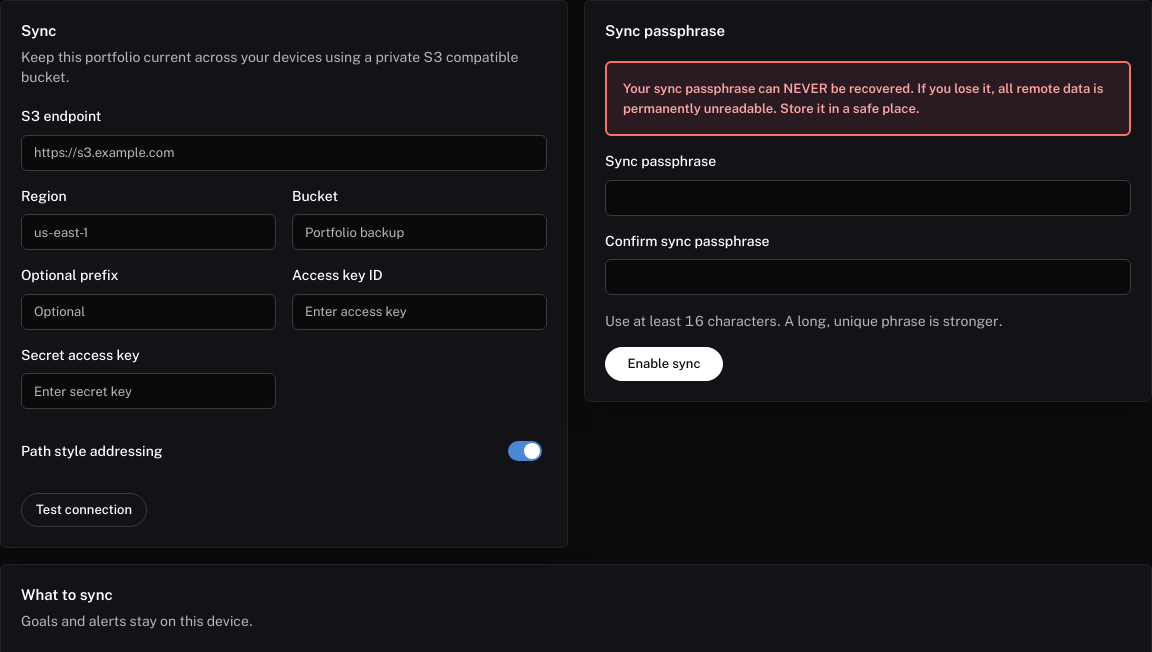
Scenario: Sync settings page › marks a path style toggle as an unsaved change
Click the switch named "Path style addressing" in the row of "Path style addressing" at (525, 451), box [503,429,547,473]
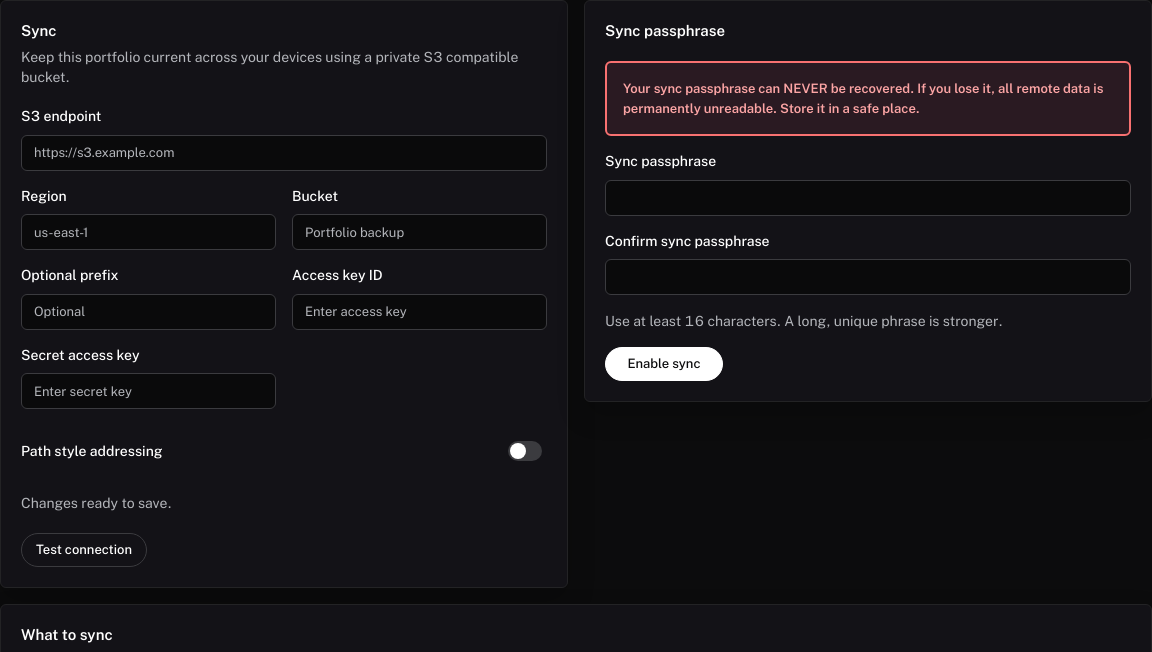
expect the text "Changes ready to save." is shown: met, box [21,495,172,511]
